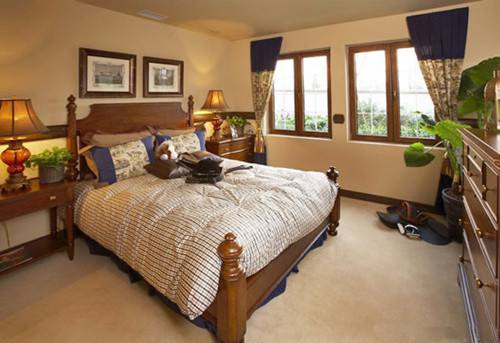床: (71, 163, 335, 317)
枕头: (94, 130, 199, 178)
灯: (0, 96, 35, 193), (202, 89, 230, 137)
